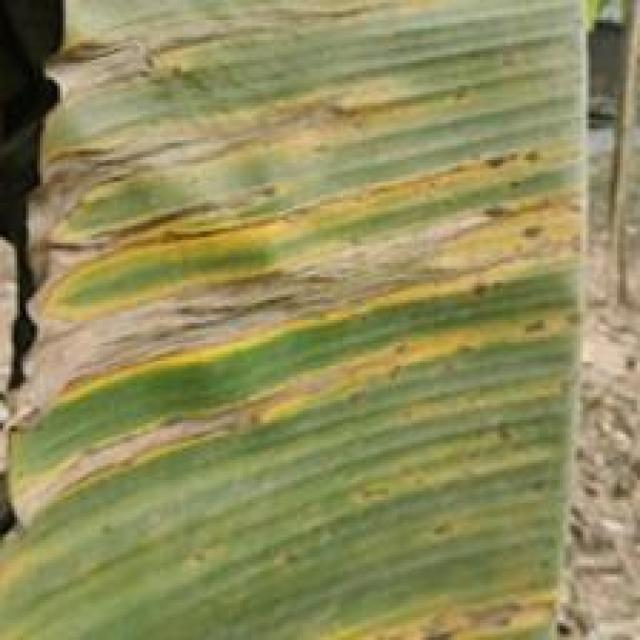Downey_mildrew: (3, 0, 588, 640)
